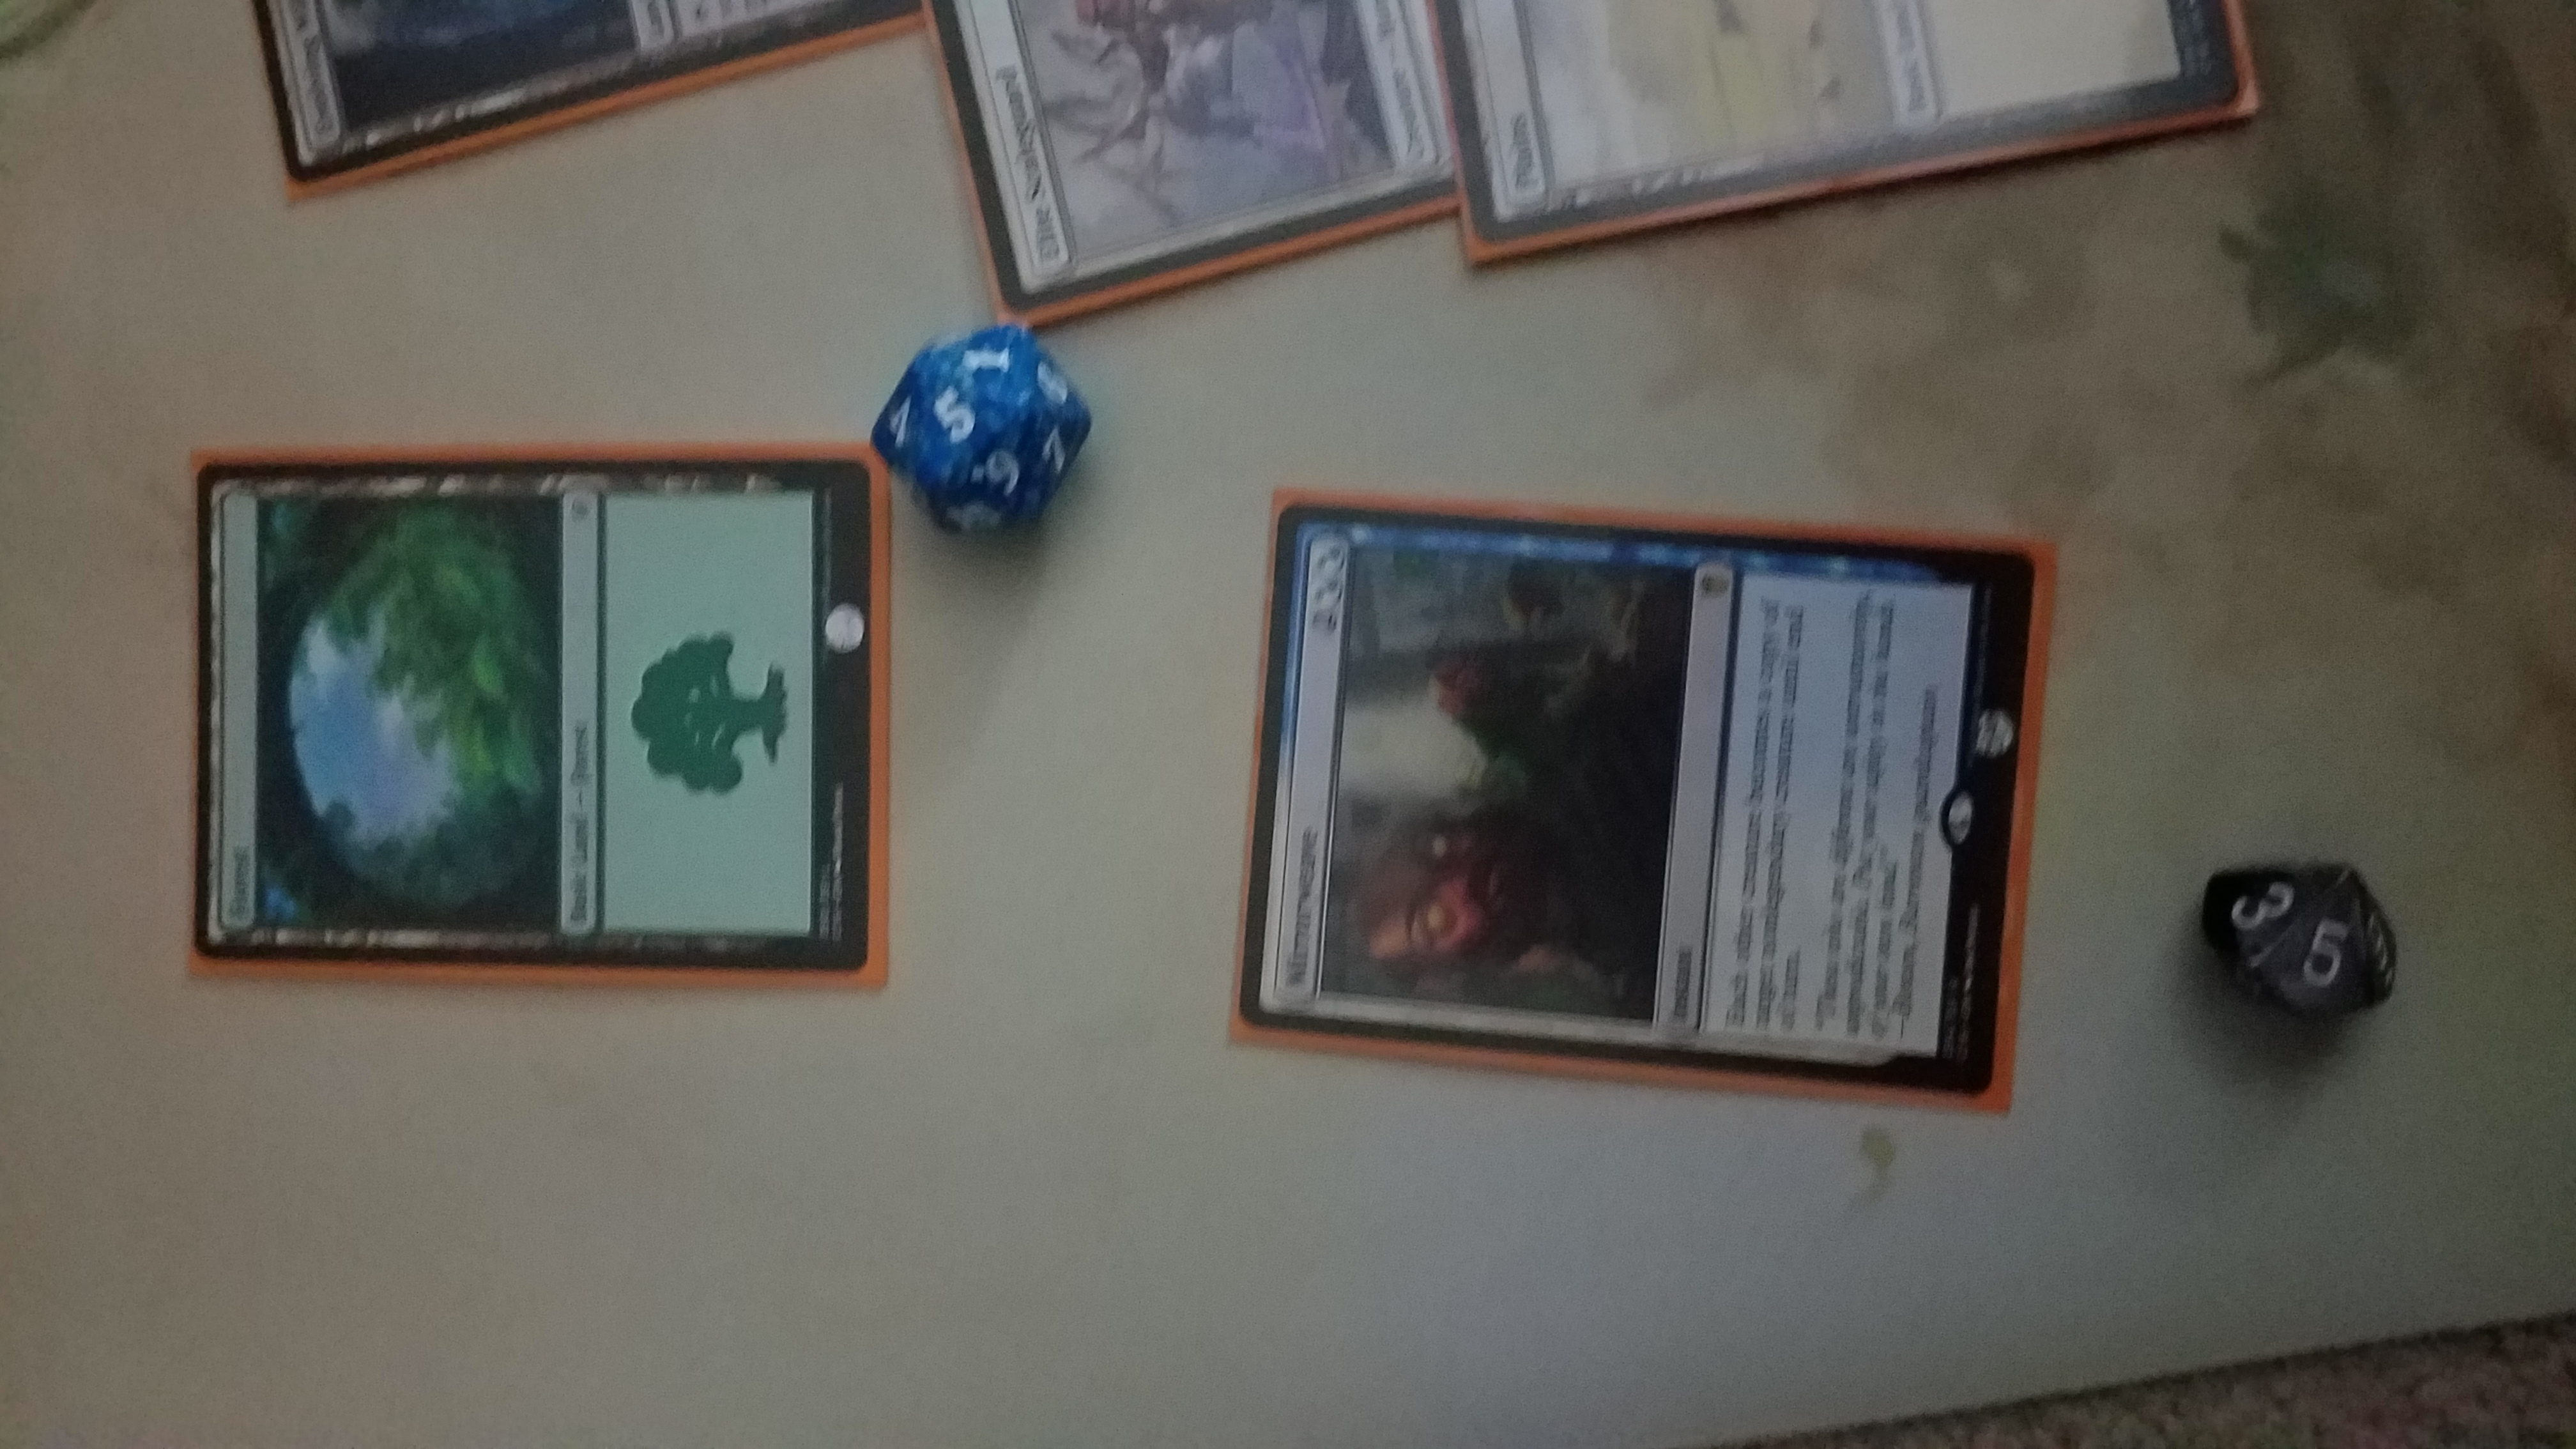Card: (1226, 494, 2040, 1108), (168, 435, 909, 980), (1422, 0, 2243, 274), (918, 0, 1463, 304)
